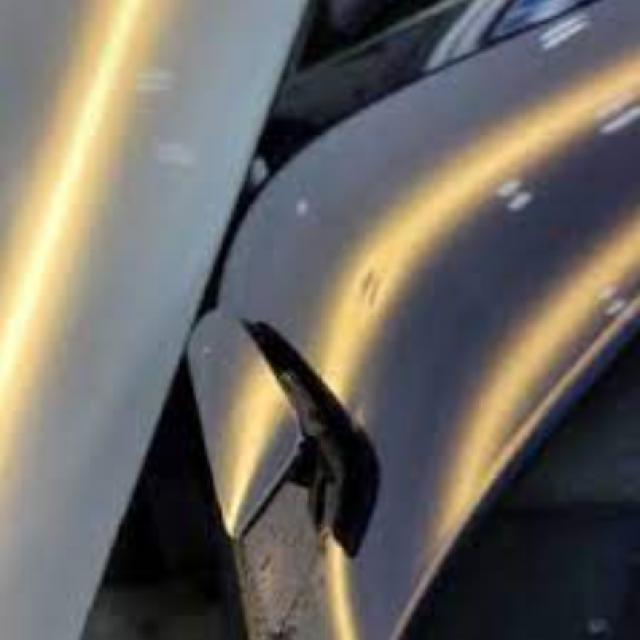dents: (335, 252, 427, 334)
